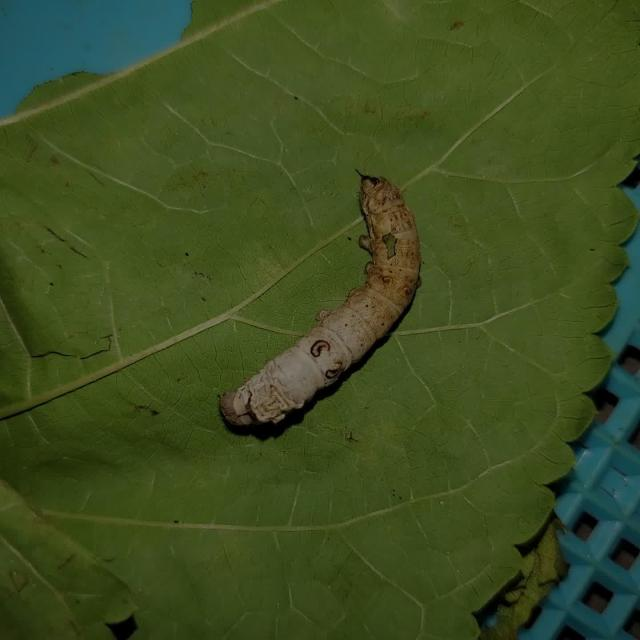Grasserie: (206, 161, 441, 438)
